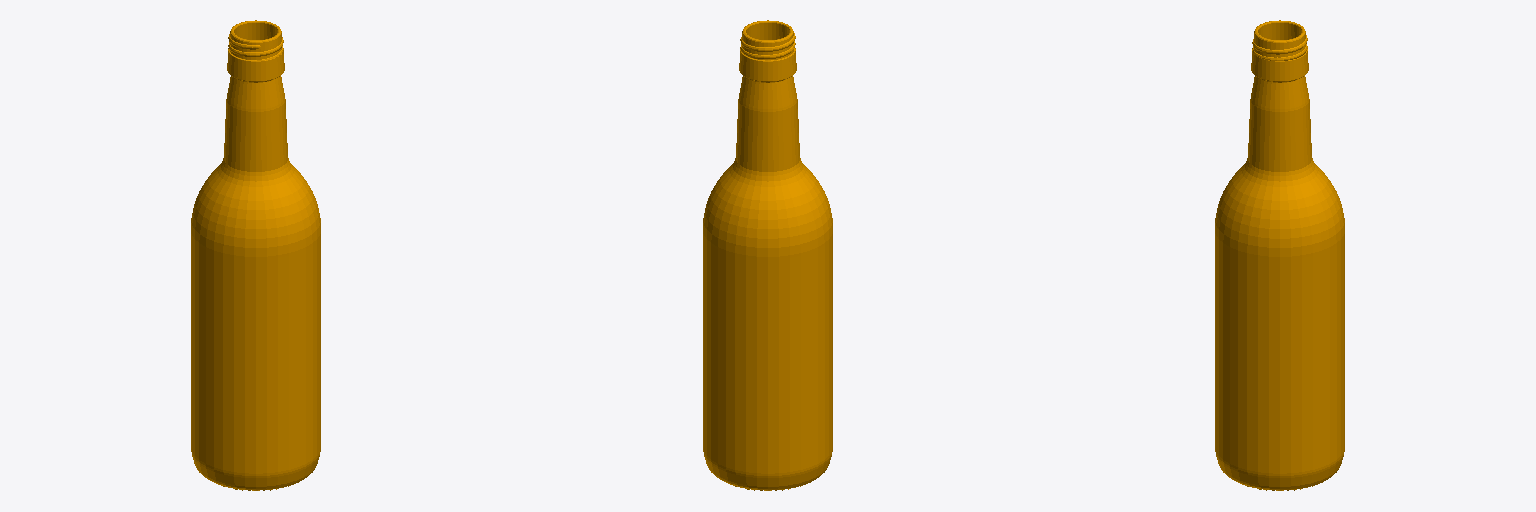
The robot description file, URDF, robot "mesh_object":
<?xml version="1.0" ?>
<robot name="mesh_object">
  <link name="base">
    <visual>
      <geometry>
        <mesh filename="liquor_1.obj" scale="1 1 1"/>
      </geometry>
    </visual>
    <collision>
      <geometry>
        <mesh filename="liquor_1.obj" scale="1 1 1"/>
      </geometry>
    </collision>
    <inertial>
      <origin xyz="0.000148 0.000112 0.084952" rpy="0 0 0"/>
      <mass value="0.5"/>
      <inertia ixx="0.01" iyy="0.01" izz="0.01" ixy="0" ixz="0" iyz="0"/>
    </inertial>
  </link>
</robot>

--- What the picture shows (computed from the rendered views, not written in the file) ---
The picture shows the robot from 3 angles, left to right: view 1: azimuth 30°, elevation 25°; view 2: azimuth 150°, elevation 25°; view 3: azimuth 270°, elevation 25°; orthographic projection.
Robot: mesh_object — 1 links, 0 joints (none); root link base; default pose: every joint at zero.
Links seen in each view (by area): view 1: base; view 2: base; view 3: base.
Boxes of the visible links, <box> form: base: <box>191,20,320,490</box>; base: <box>703,20,832,490</box>; base: <box>1215,20,1344,490</box>.
Bounding box of the posed robot: 0.0459 × 0.0459 × 0.1699 m (x, y, z).
1 mesh visuals loaded from 1 distinct referenced files (1 OBJ).
